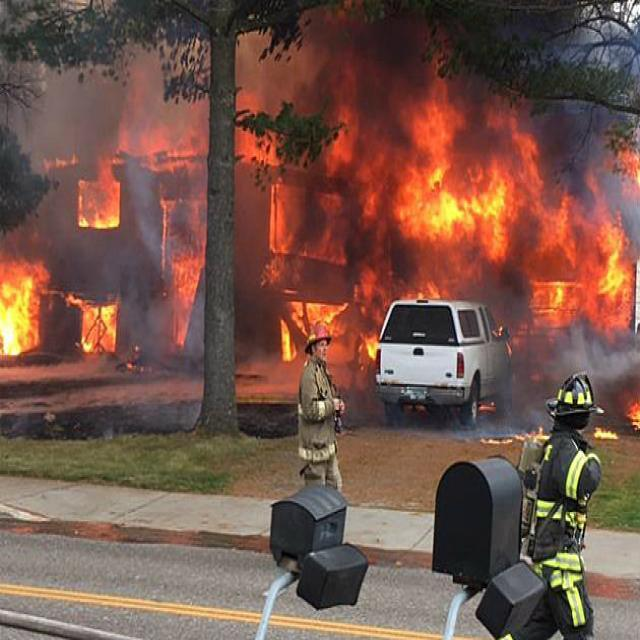Fire: (96, 70, 212, 190), (410, 156, 522, 254), (152, 194, 208, 354), (265, 186, 367, 266), (266, 293, 352, 366), (0, 250, 51, 366), (228, 79, 288, 170), (61, 285, 126, 361), (74, 170, 122, 234), (359, 323, 382, 368), (42, 150, 88, 172)
Smoke: (285, 0, 640, 259), (0, 0, 207, 386), (483, 300, 640, 442)
